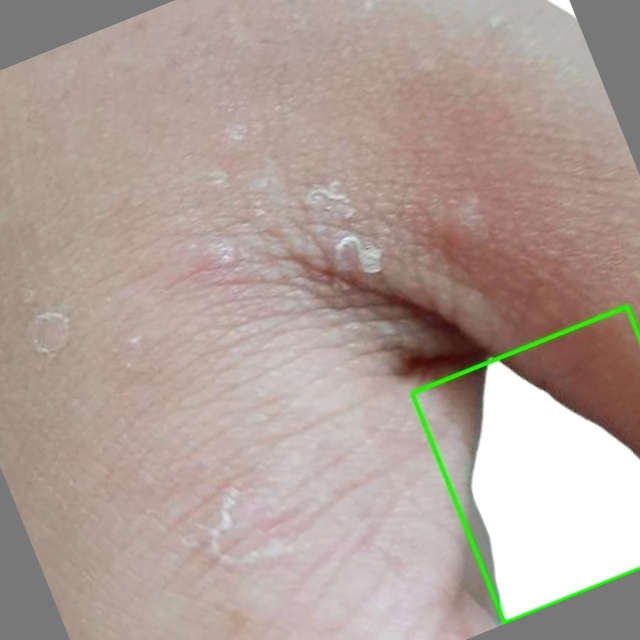Scabies: (411, 306, 639, 623)
